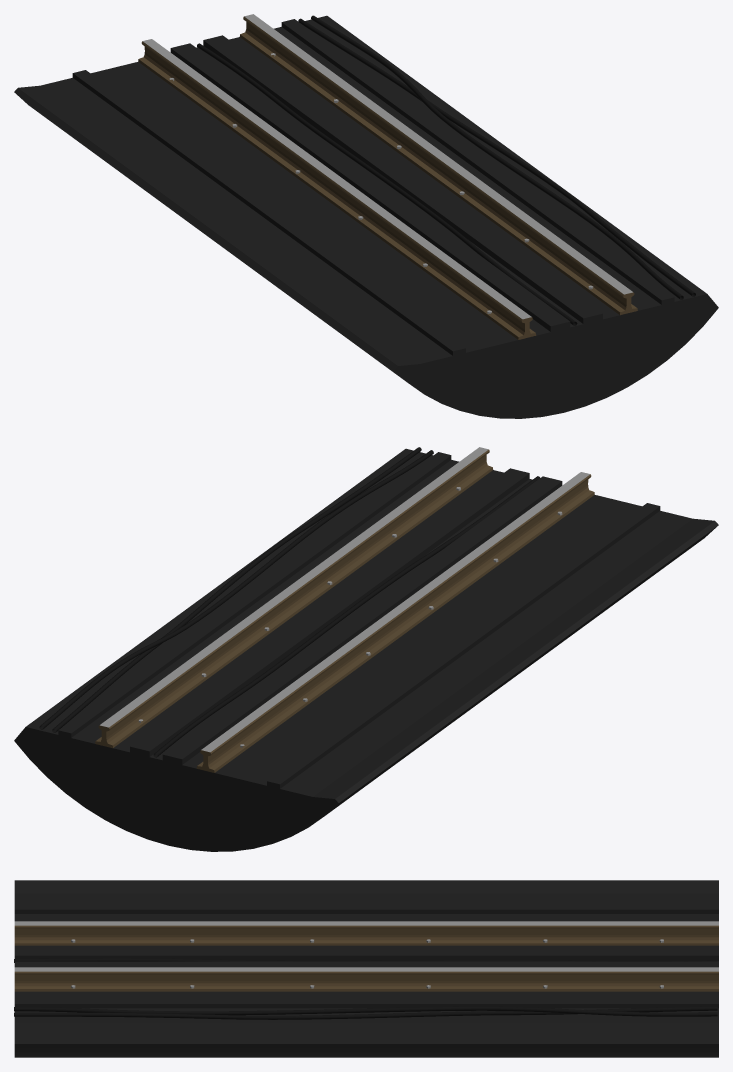
File: rail.fbx
3 views of the same model, one above another, from view 1: azimuth 30°, elevation 25°; view 2: azimuth 150°, elevation 25°; view 3: azimuth 270°, elevation 25° (orthographic). The views are drawn at different scales.
Visible parts, largest first — view 1: Tunnel, Rails, wires2, wires3; view 2: Tunnel, Rails, wires2, wires3; view 3: Tunnel, Rails, wires2, wires3.
Part boxes in pixels (bbox=[...]): Tunnel: bbox=[14, 15, 718, 418]; Rails: bbox=[138, 14, 637, 339]; wires2: bbox=[298, 15, 695, 299]; wires3: bbox=[197, 43, 577, 325]; Tunnel: bbox=[14, 448, 718, 851]; Rails: bbox=[95, 447, 594, 772]; wires2: bbox=[39, 447, 433, 732]; wires3: bbox=[153, 476, 539, 757]; Tunnel: bbox=[14, 880, 718, 1057]; Rails: bbox=[14, 921, 718, 991]; wires2: bbox=[14, 1006, 717, 1019]; wires3: bbox=[14, 958, 717, 962].
Size of the model in its own units: 148 by 45.08 by 300.
